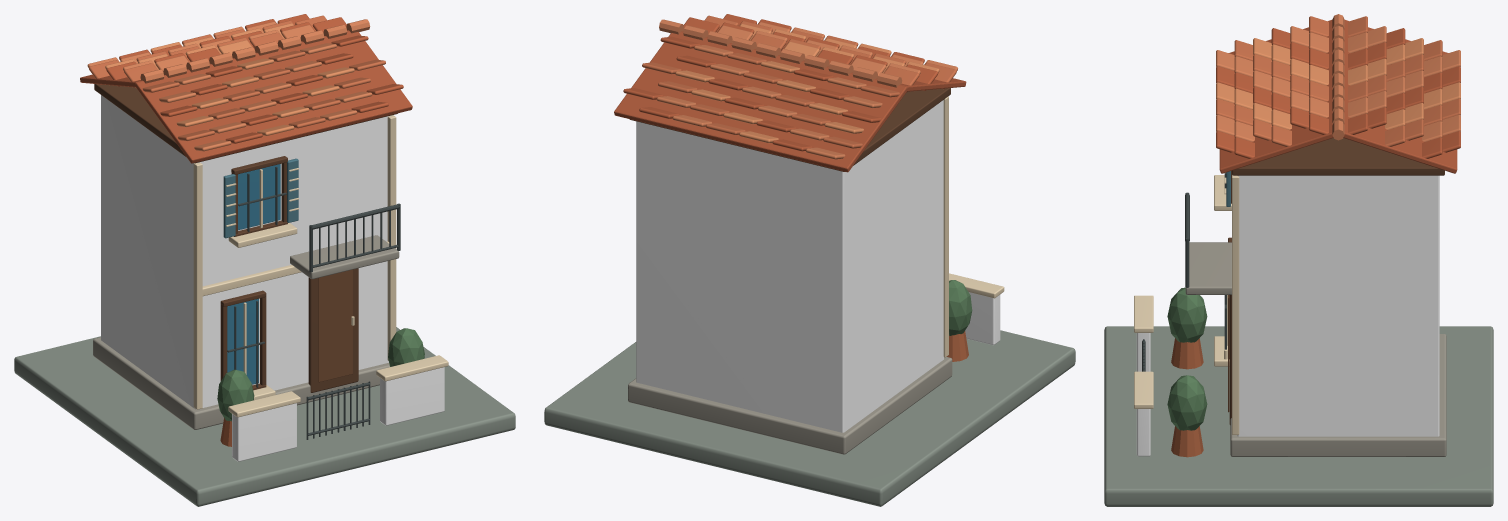
File: mediterranean-house.glb
3 renders of one model, left to right at view 1: azimuth 30°, elevation 25°; view 2: azimuth 150°, elevation 25°; view 3: azimuth 270°, elevation 25°, orthographic. The views are drawn at different scales.
Visible parts, largest first — view 1: Ochre two-storey shell, Display base, Front roof slope, Stone footing, Door inset panel, Low front boundary wall, Low front boundary wall.001, Front corner pilaster, Balcony stone slab, Walnut entry door, Upper window blue glass, Front corner pilaster.001 (+12 smaller); view 2: Ochre two-storey shell, Display base, Rear roof slope, Stone footing, Wooden eaves, Front corner pilaster, Low front boundary wall, Olive shrub, Stone boundary cap; view 3: Ochre two-storey shell, Display base, Stone footing, Wooden eaves, Balcony stone slab, Front roof slope, Rear roof slope, Front corner pilaster.001, Olive shrub.001, Olive shrub, Terracotta planter, Terracotta planter.001 (+5 smaller).
Boxes of the visible parts, x1,y1,x2,y2 form: Ochre two-storey shell: (101,95,390,409); Display base: (14,327,515,506); Front roof slope: (135,31,412,163); Stone footing: (93,337,389,429); Door inset panel: (318,269,352,382); Low front boundary wall: (232,403,296,461); Low front boundary wall.001: (380,367,444,425); Front corner pilaster: (193,162,202,409); Balcony stone slab: (290,235,399,279); Walnut entry door: (308,268,358,392); Upper window blue glass: (238,164,280,230); Front corner pilaster.001: (387,115,396,360); Ochre two-storey shell: (636,100,943,432); Display base: (544,330,1075,506); Rear roof slope: (614,32,907,172); Stone footing: (628,357,952,454); Wooden eaves: (629,88,950,171); Front corner pilaster: (943,96,948,357); Low front boundary wall: (965,292,1000,345); Olive shrub: (949,280,972,335); Stone boundary cap: (949,273,1004,298); Ochre two-storey shell: (1237,175,1439,436); Display base: (1104,326,1493,506); Stone footing: (1230,334,1446,456); Wooden eaves: (1232,138,1444,175); Balcony stone slab: (1185,242,1231,294); Front roof slope: (1219,20,1333,173); Rear roof slope: (1343,20,1457,173); Front corner pilaster.001: (1232,175,1239,434); Olive shrub.001: (1167,375,1207,430); Olive shrub: (1167,287,1207,342); Terracotta planter: (1171,338,1203,369); Terracotta planter.001: (1171,426,1203,457).
Bounding box in the file's own units: 6.7 × 6.81 × 6.7.
